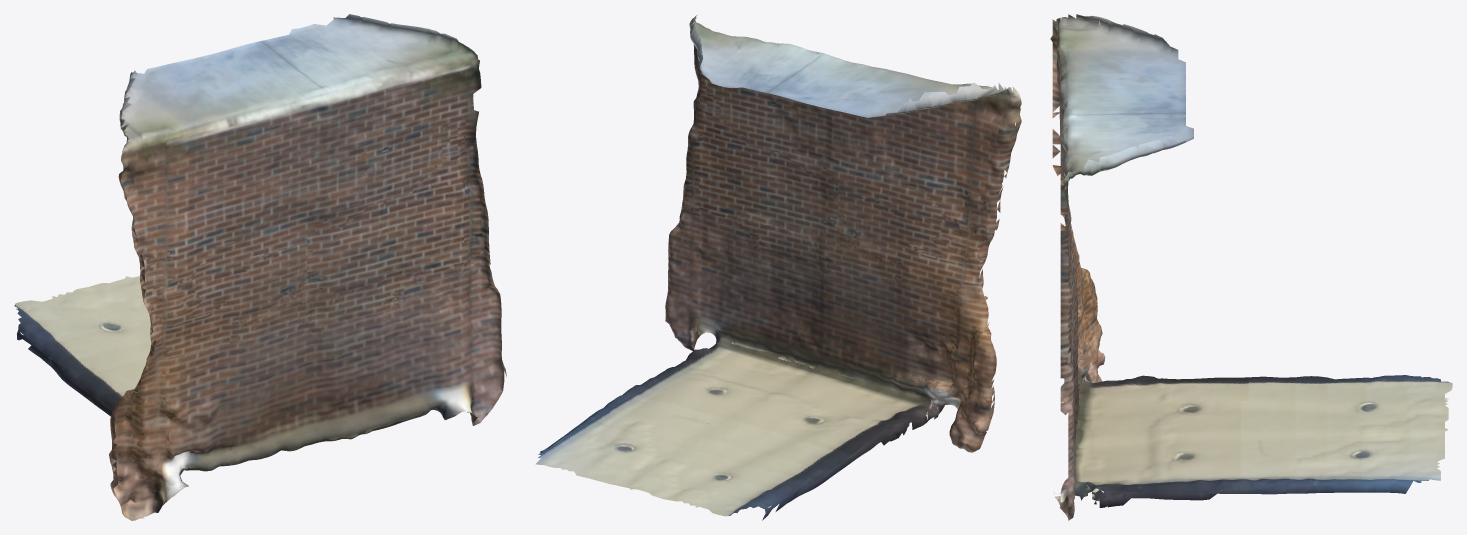
The model's file is Outside4.obj.
3 renders of one model, left to right at view 1: azimuth 30°, elevation 25°; view 2: azimuth 150°, elevation 25°; view 3: azimuth 270°, elevation 25°, orthographic. The views are drawn at different scales.
Size of the model in its own units: 4.34 by 4.41 by 4.24.
Materials: 1 (1 with a texture image).
